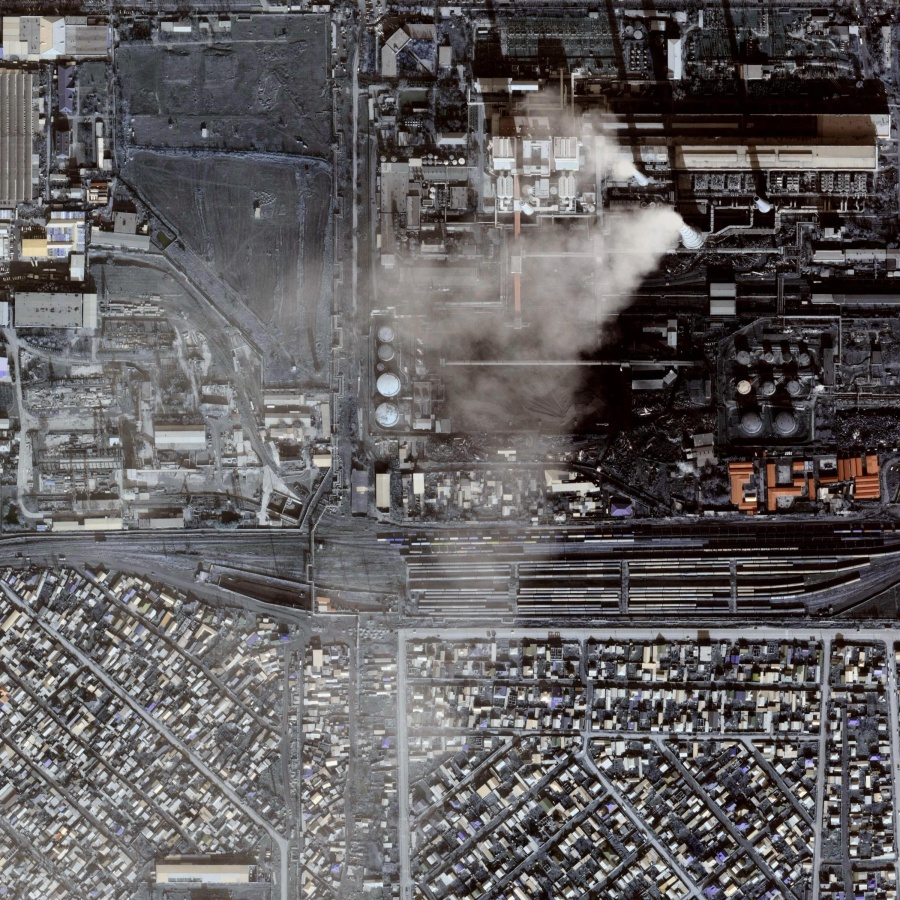PowerPlant: (380, 135, 884, 449)
